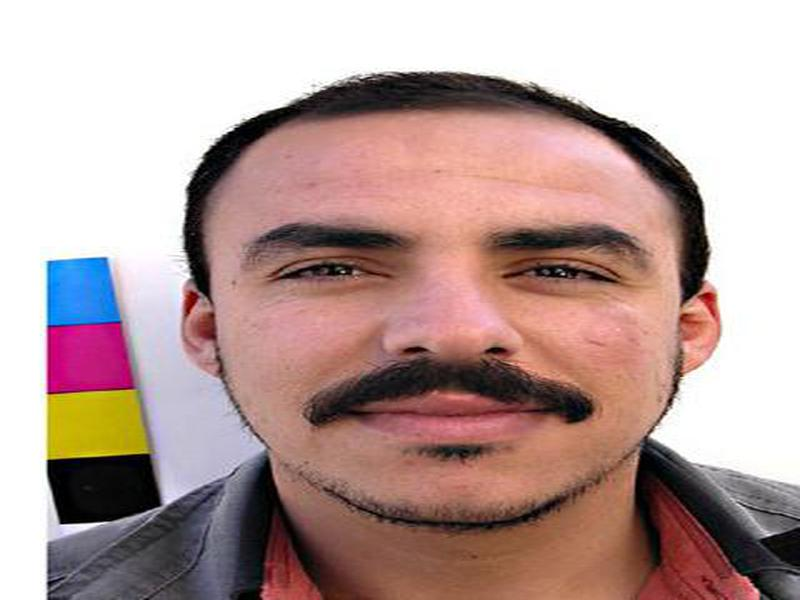without_mask: (199, 170, 678, 529)
